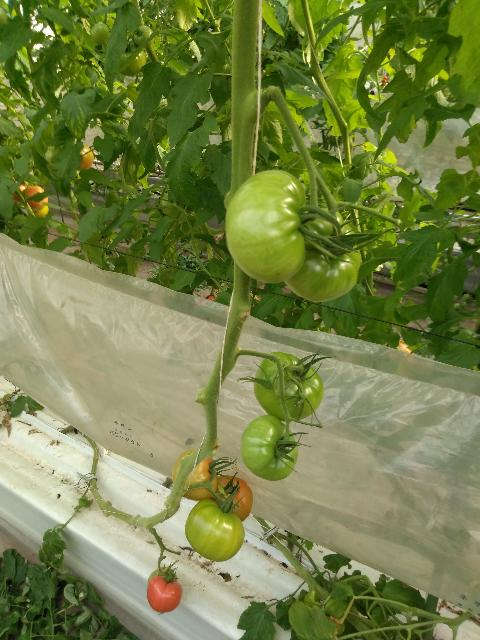b_fully_ripened: (147, 576, 183, 613)
b_green: (224, 169, 306, 284), (283, 208, 361, 302), (254, 351, 323, 422), (240, 414, 299, 482), (185, 498, 245, 562), (117, 40, 146, 76), (147, 566, 178, 588), (133, 26, 153, 49), (91, 22, 110, 46)
b_half_ripened: (172, 448, 218, 500), (209, 474, 254, 522), (22, 186, 48, 211), (77, 144, 95, 171)
